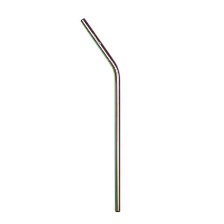drinking_straw: (74, 13, 128, 216)
